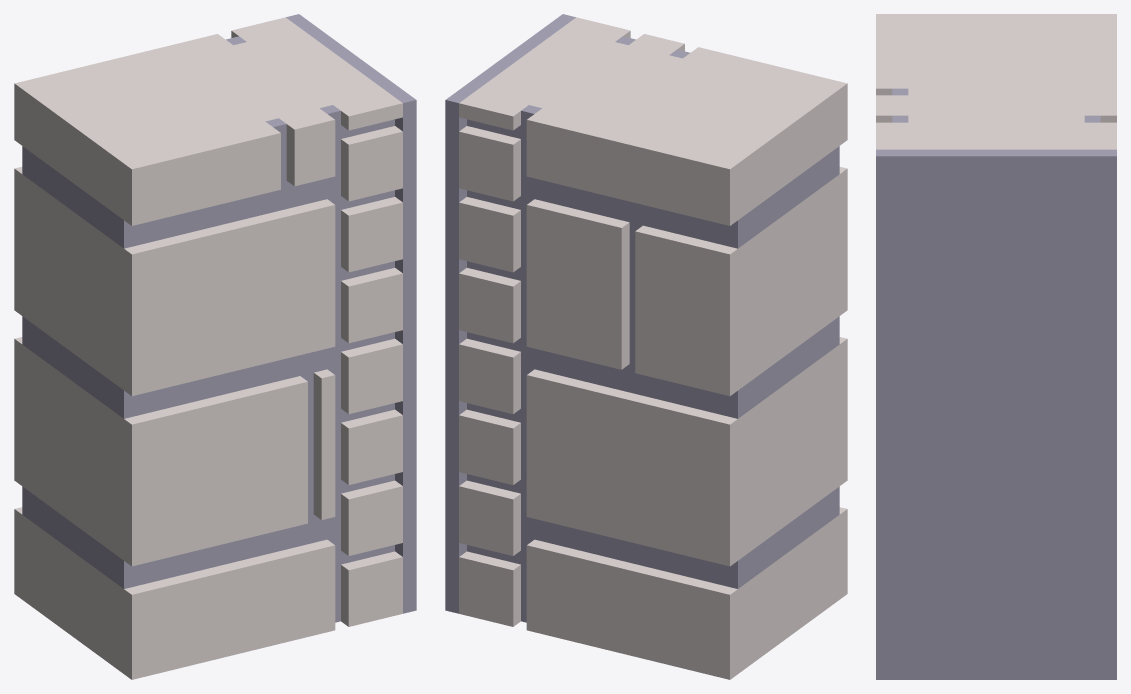
Rendered from WallDoorLeft2.obj.
3 views of the same model, side by side, from view 1: azimuth 30°, elevation 25°; view 2: azimuth 150°, elevation 25°; view 3: azimuth 270°, elevation 25° (orthographic). The views are drawn at different scales.
Size of the model in its own units: 2.1 by 3.6 by 1.5.
1 material, 1 textured.
